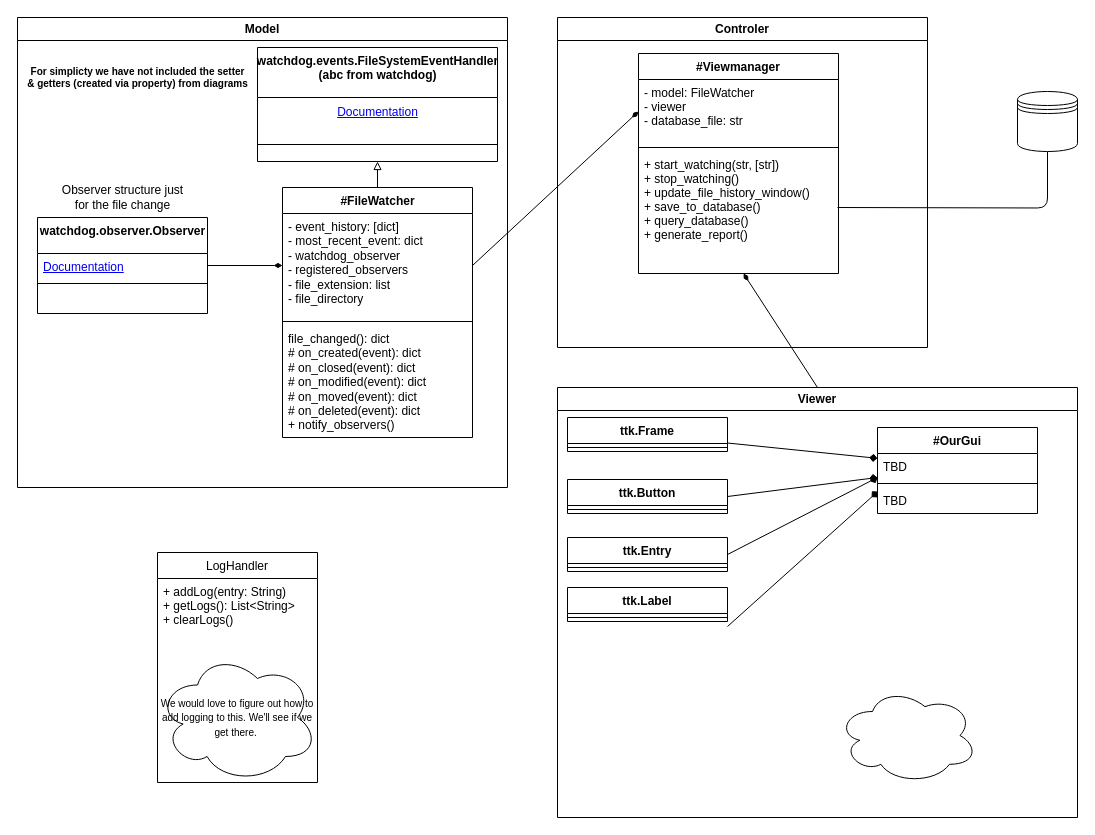
Some shapes in this 1095 by 835 pixel diagram are drawn without their labels. Each missing label, with the centre of its shape:
"Database" goes at [1047,121].
"Other tkinter classes to follow." goes at [907,735].
